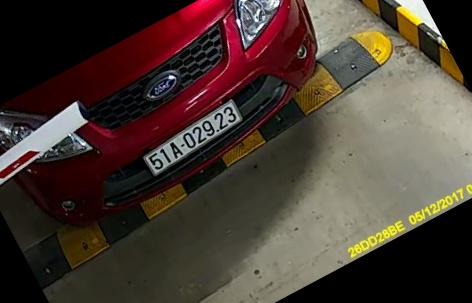plate: (141, 104, 240, 180)
